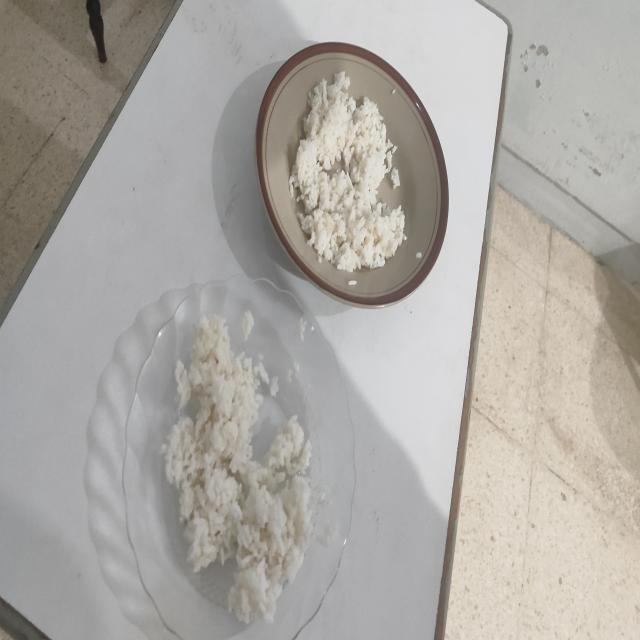nasi_putih: (162, 315, 312, 623), (288, 71, 406, 272)
